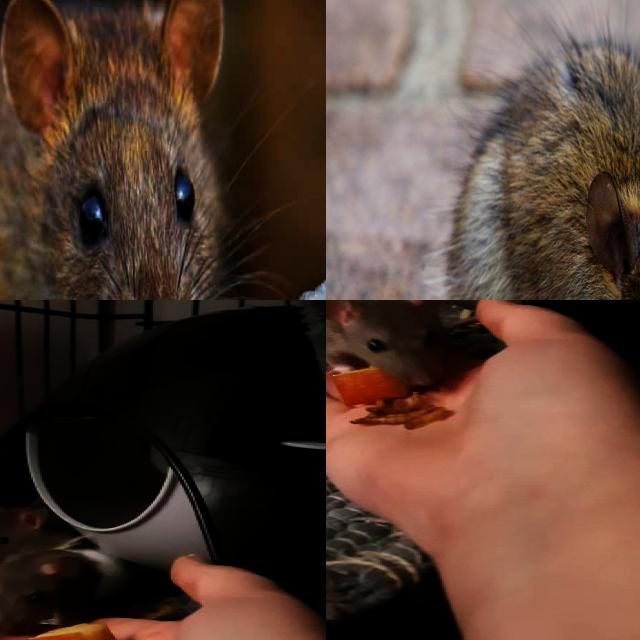rat: (0, 0, 251, 300), (446, 44, 640, 300), (0, 547, 142, 636), (326, 300, 457, 390), (0, 497, 84, 577)
